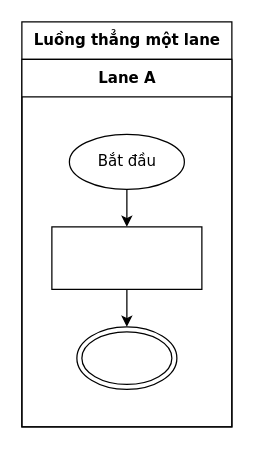
This 254x449 diagram has some shape labels left out. Here are the shapes that lost their labels. From the top down, the centre of each, then its label:
(126,257): Xử lý
(126,357): Xong
